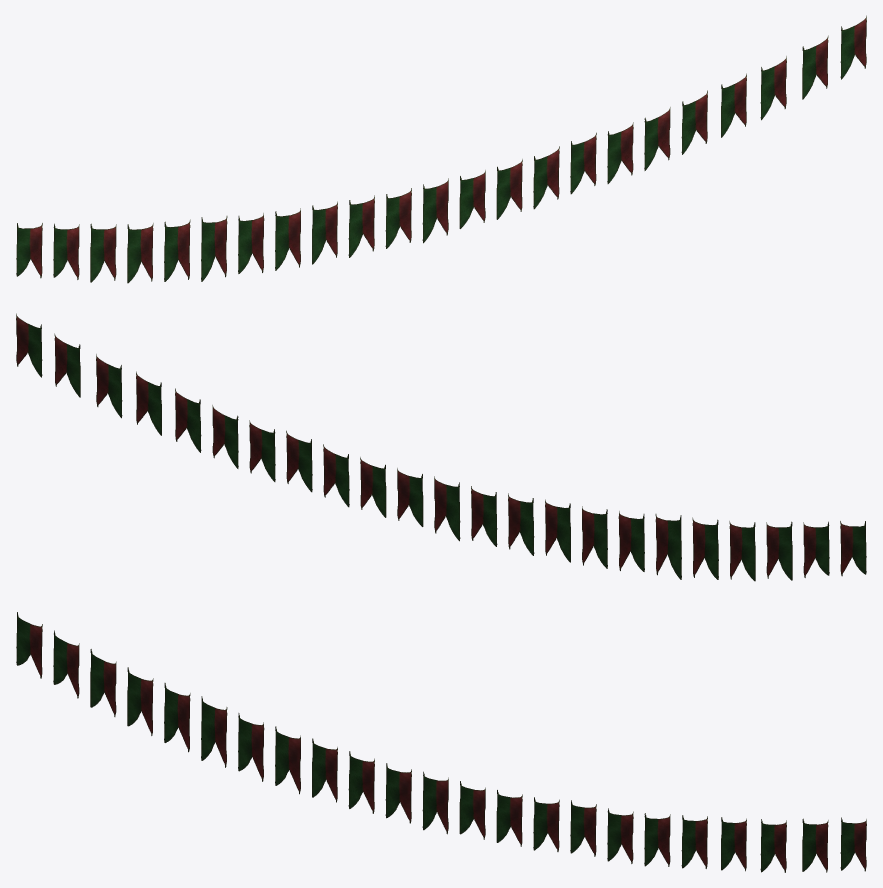
File: KM_VOB_RIBBONS_GR_5M.glb
3 views of the same model, one above another, from view 1: azimuth 30°, elevation 25°; view 2: azimuth 150°, elevation 25°; view 3: azimuth 330°, elevation 25° (orthographic).
Parts seen in each view (by area): view 1: Mesh; view 2: Mesh; view 3: Mesh.
Boxes of the visible parts, left/top/right/bottom form: Mesh: left=16, top=15, right=866, bottom=283; Mesh: left=16, top=313, right=866, bottom=581; Mesh: left=16, top=612, right=866, bottom=872.
Size of the model in its own units: 4.9 by 0.6614 by 0.
1 material, 1 textured.
